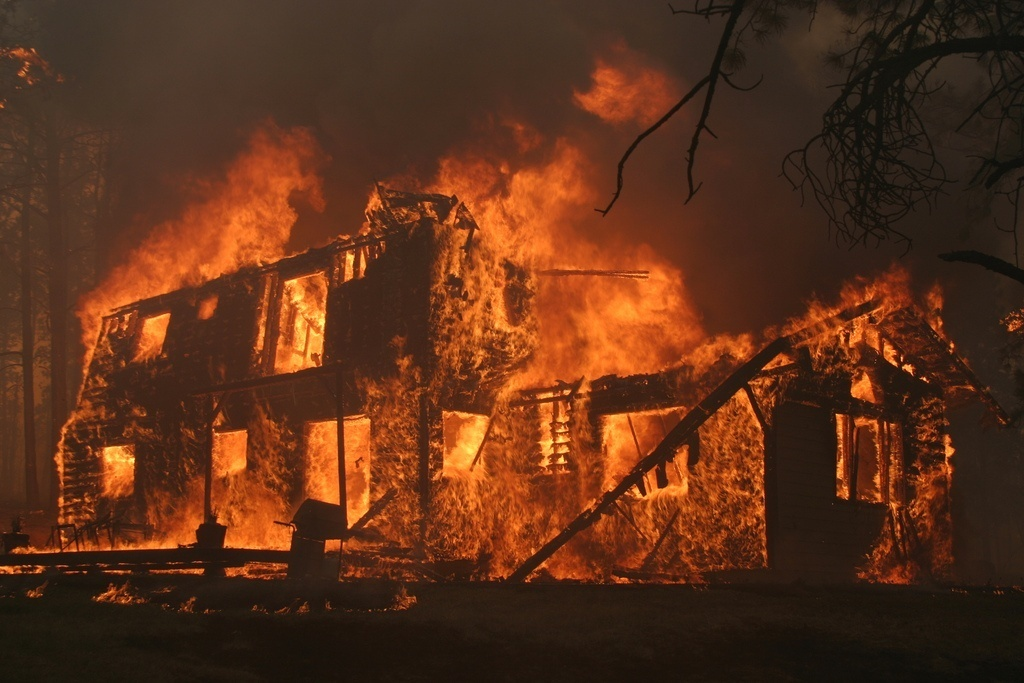fire: (16, 98, 833, 618)
